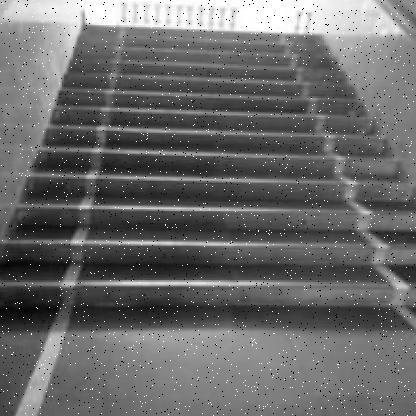stair_up: (14, 143, 389, 332)
